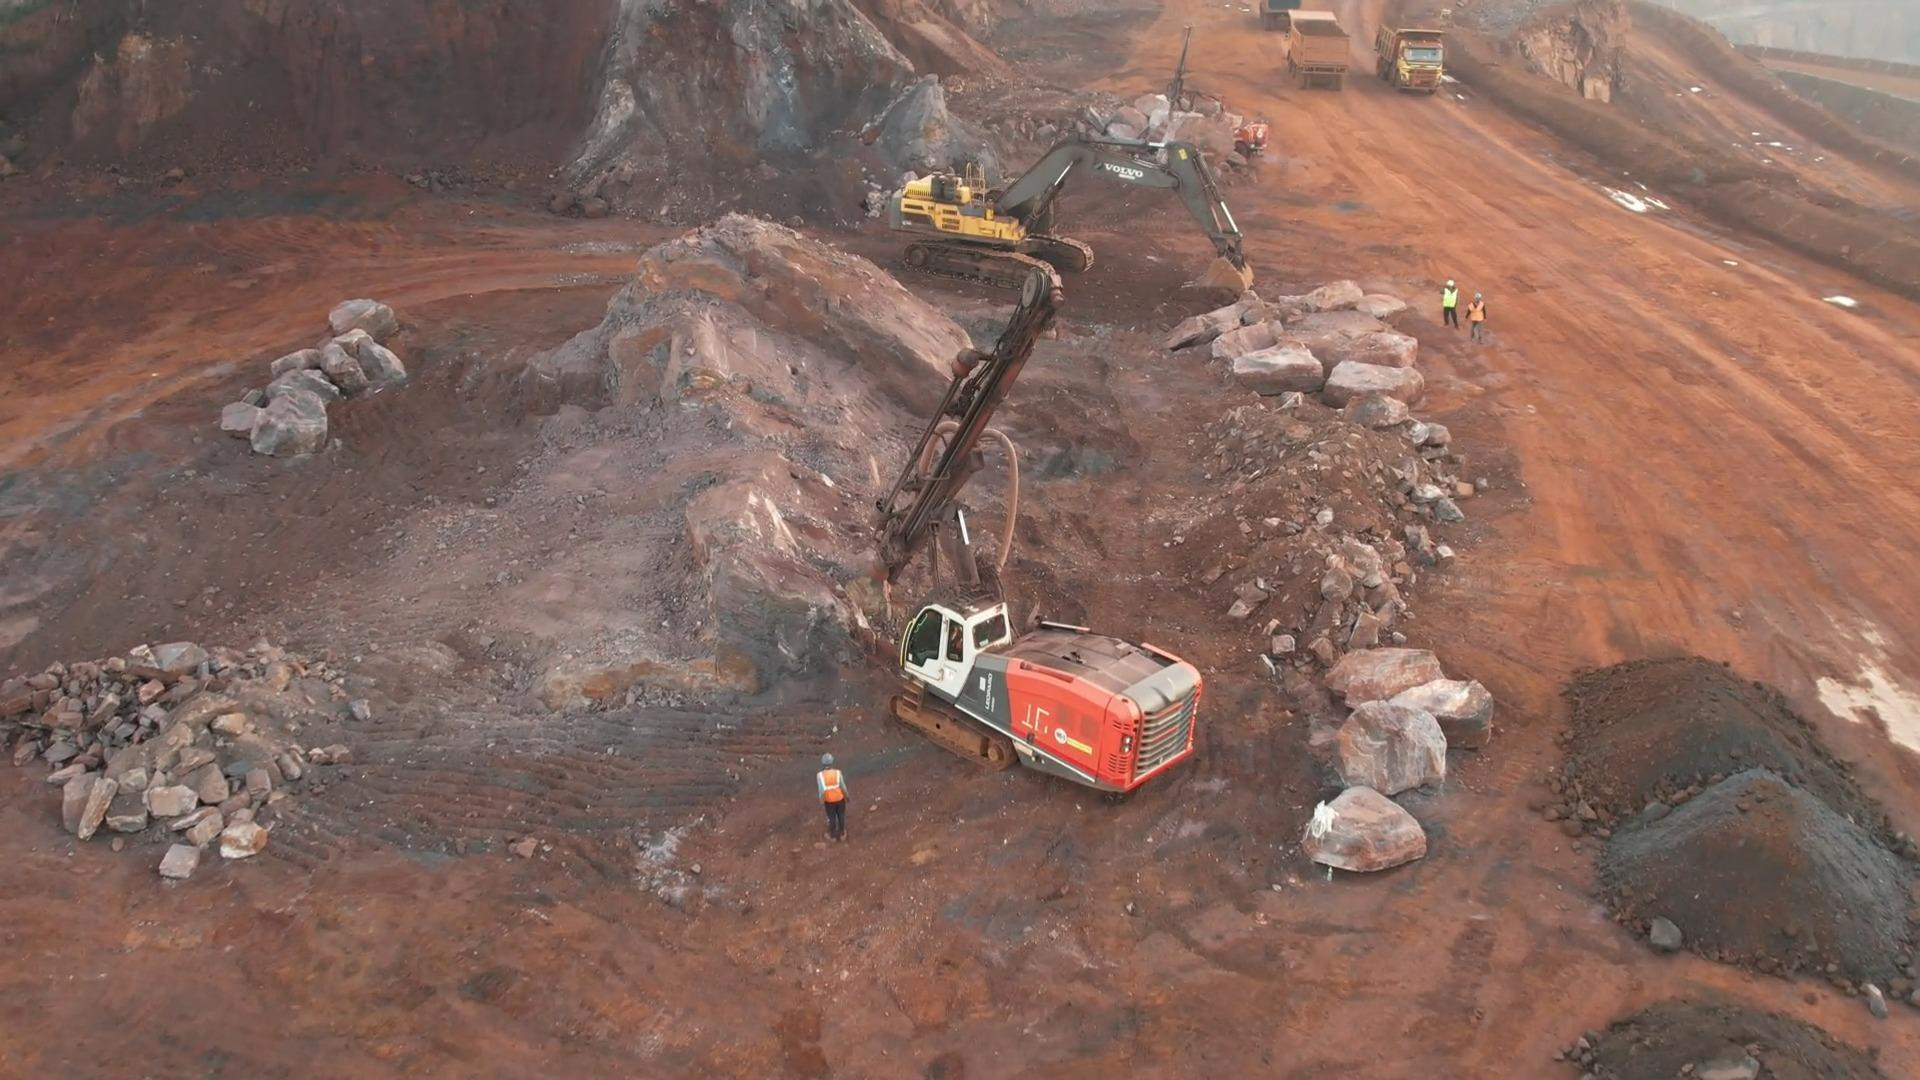excavator: (898, 140, 1242, 278)
